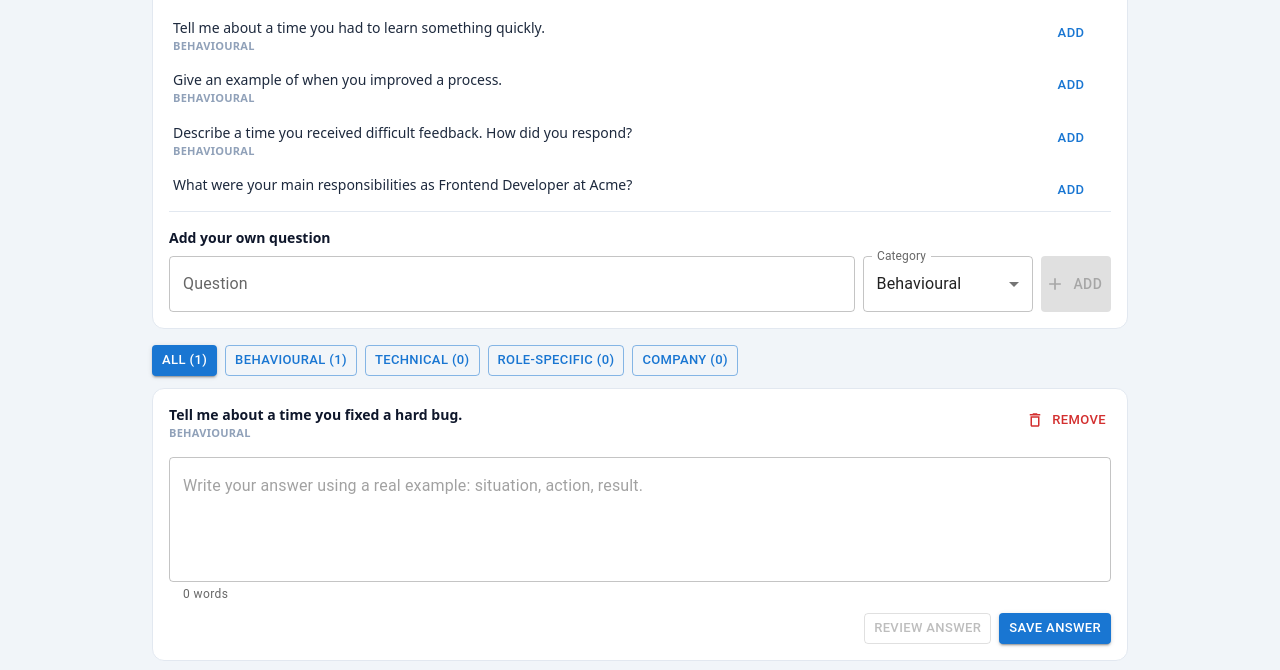
Test case: interview prep answer review › scores a written answer and flags it when it is edited afterwards
(page scrolled)
Expected: the button "Review answer" is disabled, 864,613 -> 991,644
Replace the text in the text box with placeholder "real example" with "Our login failed after refresh, so I traced it to the token and fixed it with Redux thunks in React. Afterwards users stayed signed in and support tickets dropped.". click: (640, 520)
box: 183,474 -> 1097,566
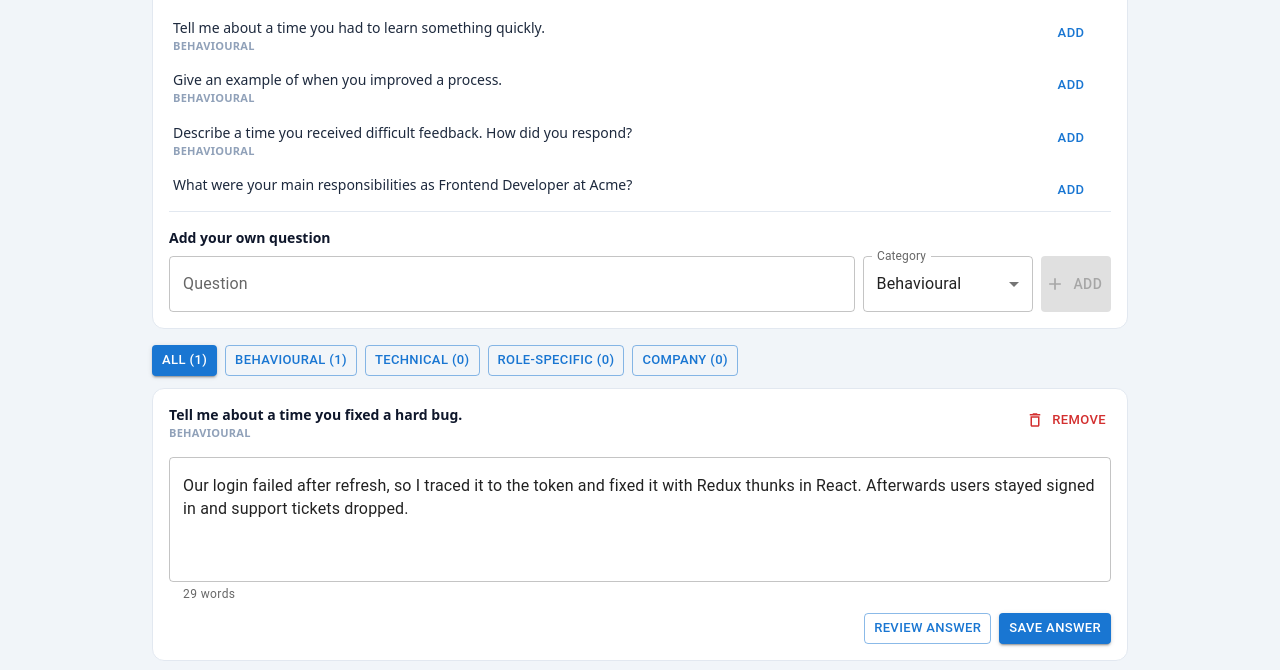
Click the button "Review answer". click: (928, 628)
box: 864,613 -> 991,644
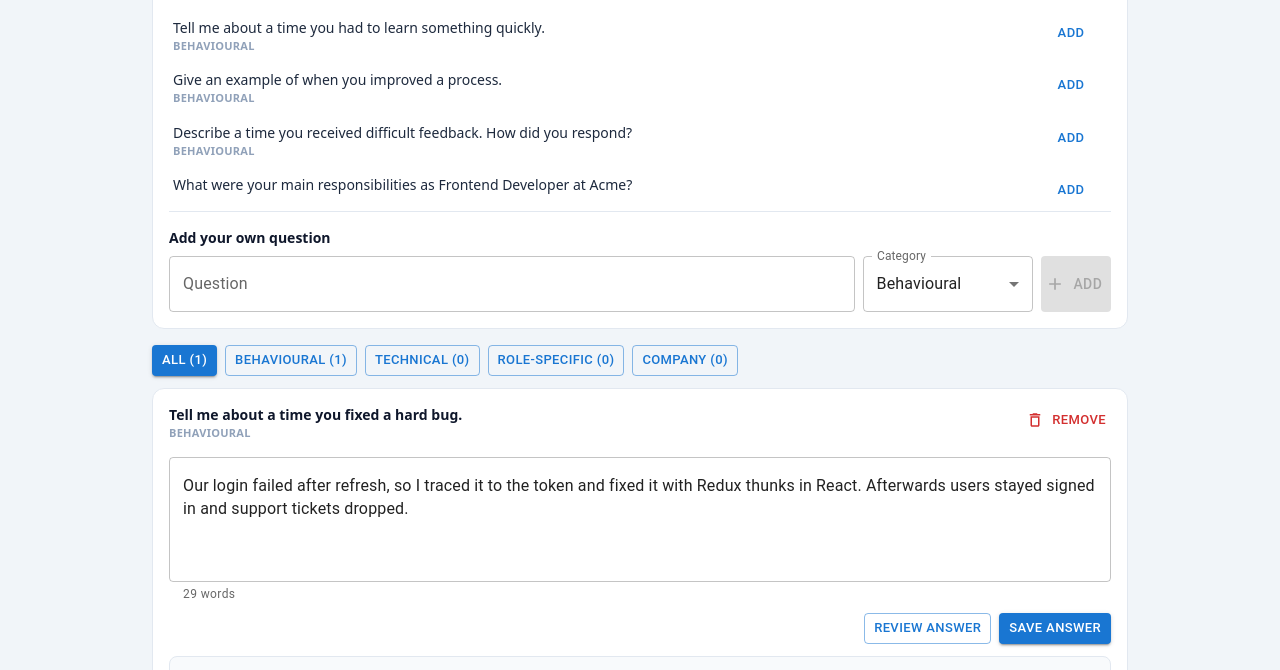
Expected: the text "changed the answer after this review" is not shown
Replace the text in the text box with placeholder "real example" with "A different answer.". click: (640, 520)
box: 183,474 -> 1097,566
(page scrolled)
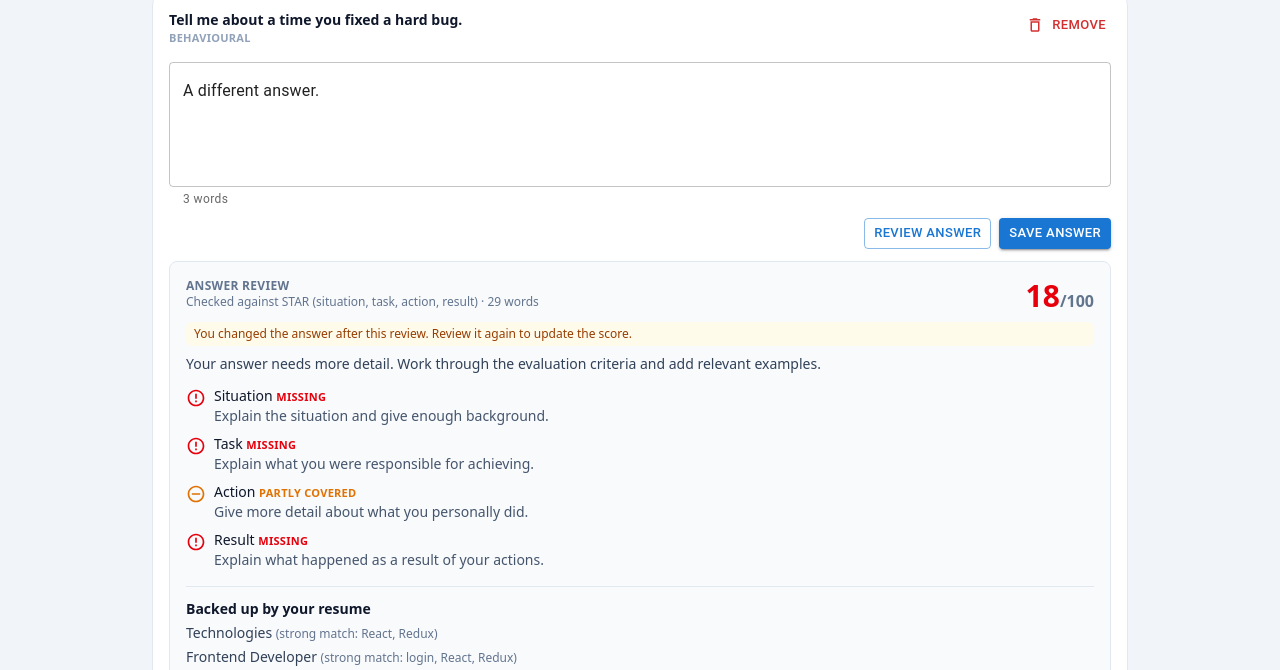
Expected: the text "changed the answer after this review" is shown, 194,325 -> 632,342
